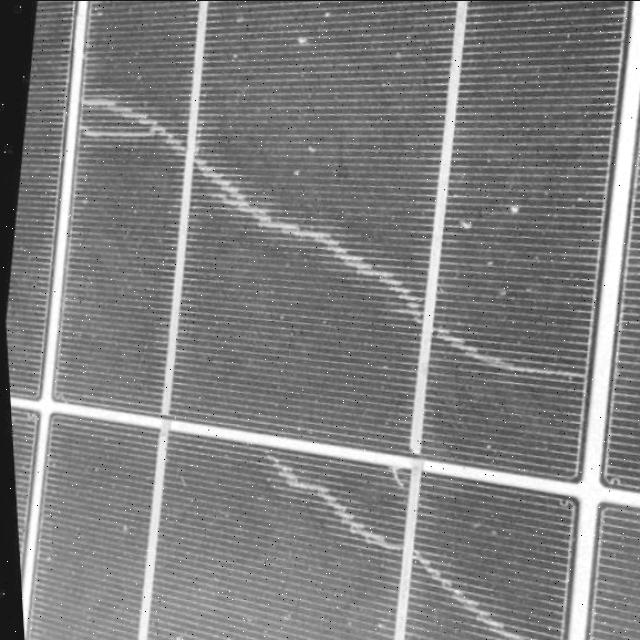Anomaly Solar Panel: (2, 0, 640, 640)
Structural Damage: (61, 78, 534, 385), (249, 445, 397, 564), (391, 552, 551, 640)
